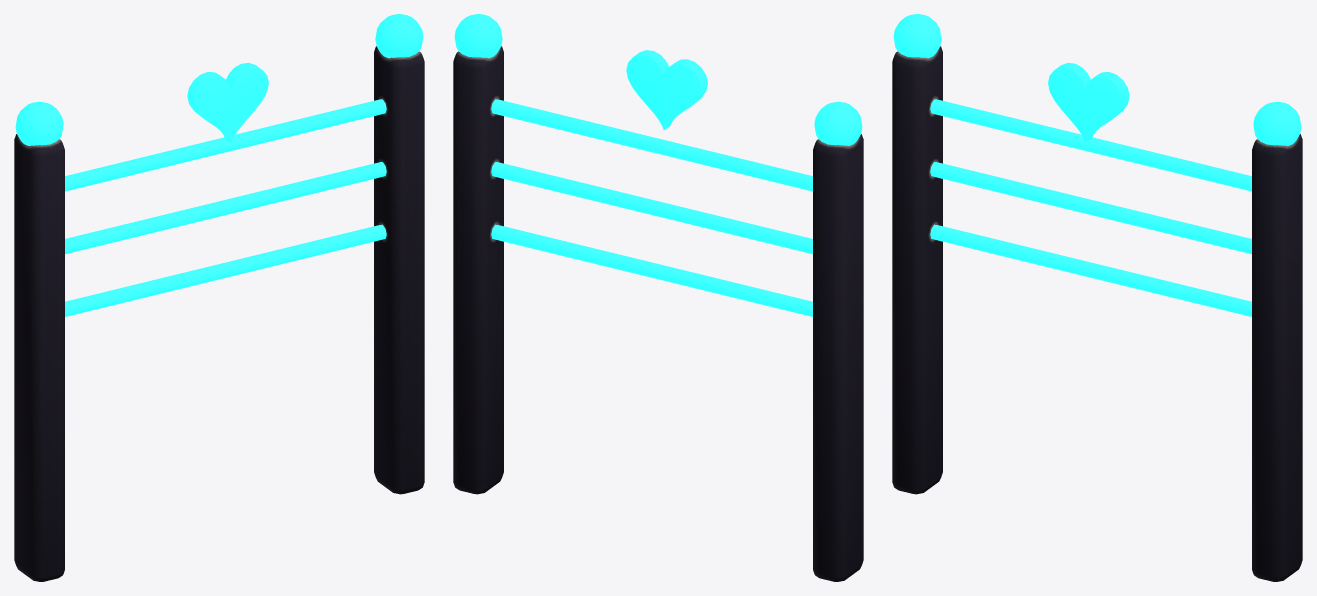
Rendered from rn_obstacle_laser_high.glb.
3 renders of one model, left to right at view 1: azimuth 30°, elevation 25°; view 2: azimuth 150°, elevation 25°; view 3: azimuth 330°, elevation 25°, orthographic.
Parts seen in each view (by area): view 1: rn_obstacle_laser_high; view 2: rn_obstacle_laser_high; view 3: rn_obstacle_laser_high.
Boxes of the visible parts, <box> form: rn_obstacle_laser_high: <box>14,14,424,581</box>; rn_obstacle_laser_high: <box>453,14,863,581</box>; rn_obstacle_laser_high: <box>892,14,1302,581</box>.
Size of the model in its own units: 2.68 by 3 by 0.3.
Materials: 2 (2 with a texture image).
